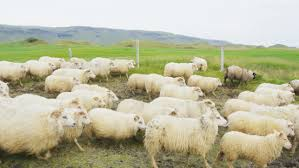sheep: (143, 105, 227, 167), (1, 100, 72, 160), (222, 125, 291, 168), (88, 106, 146, 146), (229, 108, 298, 136), (240, 88, 287, 109), (70, 83, 118, 102), (158, 84, 205, 101), (43, 74, 82, 94), (1, 59, 28, 85), (55, 67, 98, 83), (224, 64, 258, 84), (188, 73, 222, 93), (162, 61, 200, 78), (28, 59, 57, 80), (90, 57, 115, 80), (115, 56, 135, 79)
